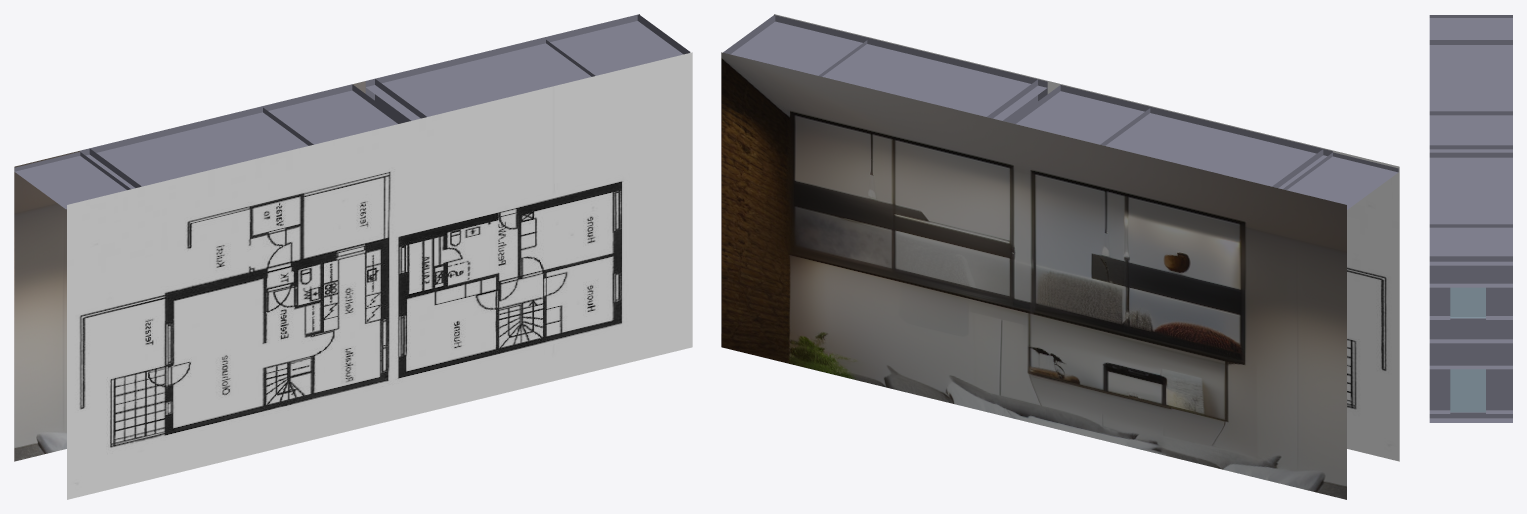
3 renders of one model, left to right at view 1: azimuth 30°, elevation 25°; view 2: azimuth 150°, elevation 25°; view 3: azimuth 270°, elevation 25°, orthographic. The views are drawn at different scales.
Visible parts, largest first — view 1: FloorPlan, 19_png.rf.5435466b5cc5a5cf9cbc1da0f911767b, InteriorFloor; view 2: InteriorFloor, 19_png.rf.5435466b5cc5a5cf9cbc1da0f911767b, FloorPlan; view 3: 19_png.rf.5435466b5cc5a5cf9cbc1da0f911767b.
Boxes of the visible parts, bbox=[...] form: FloorPlan: bbox=[67, 52, 692, 499]; 19_png.rf.5435466b5cc5a5cf9cbc1da0f911767b: bbox=[14, 14, 690, 209]; InteriorFloor: bbox=[14, 14, 639, 461]; InteriorFloor: bbox=[721, 52, 1346, 499]; 19_png.rf.5435466b5cc5a5cf9cbc1da0f911767b: bbox=[723, 15, 1398, 209]; FloorPlan: bbox=[774, 14, 1399, 461]; 19_png.rf.5435466b5cc5a5cf9cbc1da0f911767b: bbox=[1429, 15, 1512, 422].
Size of the model in its own units: 19.65 by 8.85 by 2.85.
Materials: 3 (2 with a texture image).
